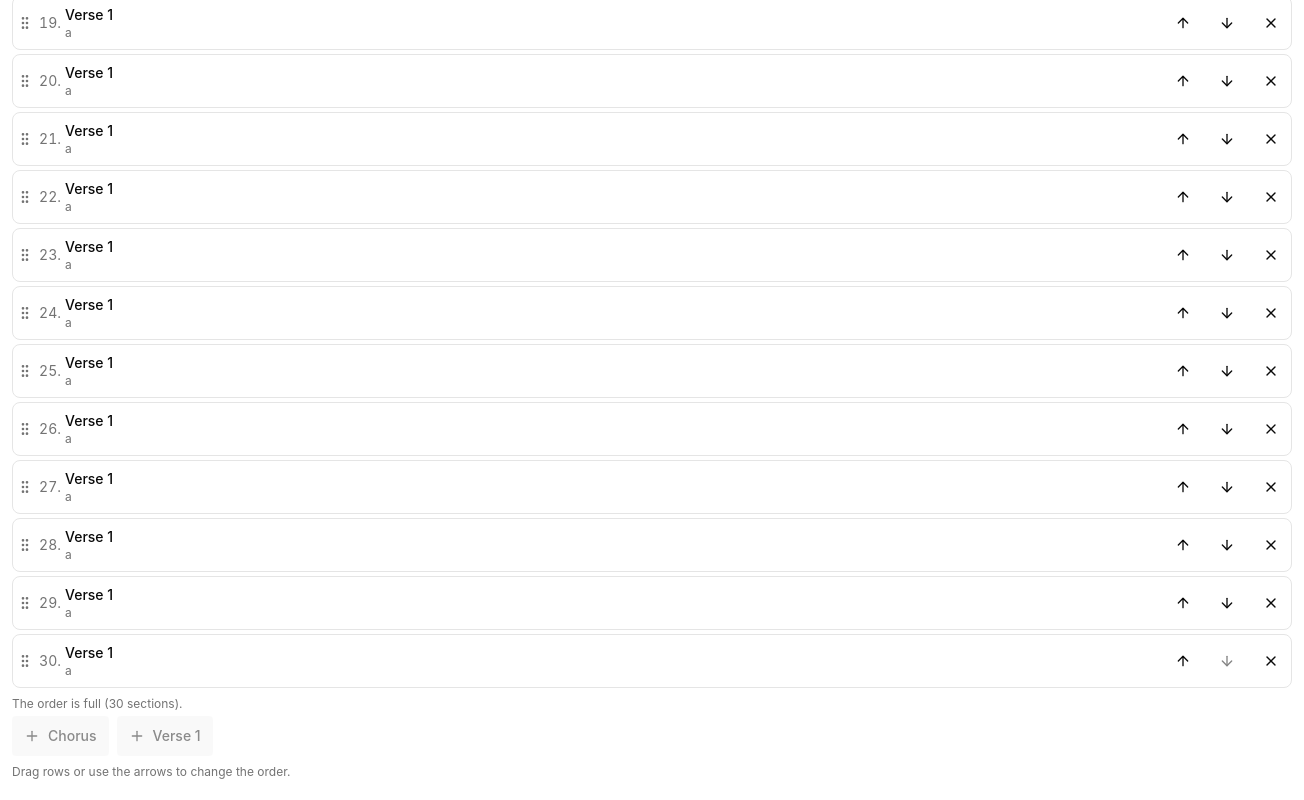
LyricsSection › enforces the 5000-character and 30-entry limits
(page scrolled)
Expected: the text "The order is full (30 sections)." is shown, [12,696,182,711]
Expected: the button with aria-label "Add Verse 1 to the order" is disabled, [116,716,213,756]
Click the button named "Remove Verse 1 (position 30)" at (1271, 661), box [1251,641,1291,681]
(page scrolled)
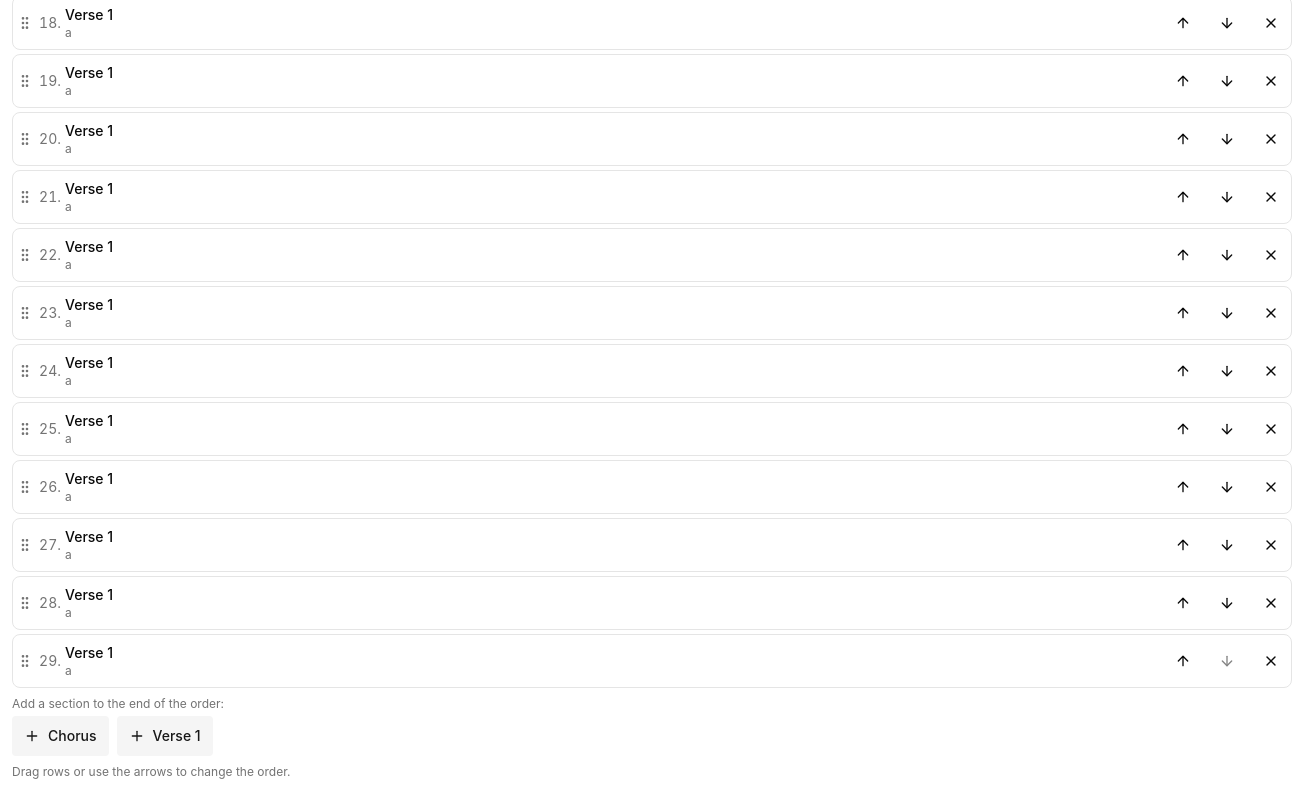
Expected: the button with aria-label "Add Verse 1 to the order" is enabled, [116,716,213,756]
